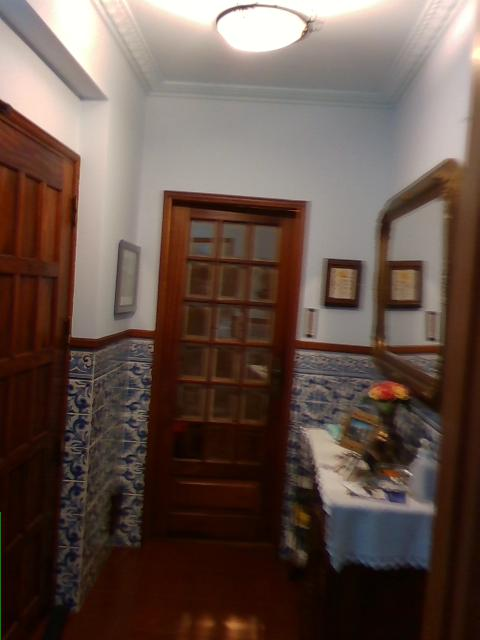door: (144, 190, 310, 542), (1, 99, 82, 629)
